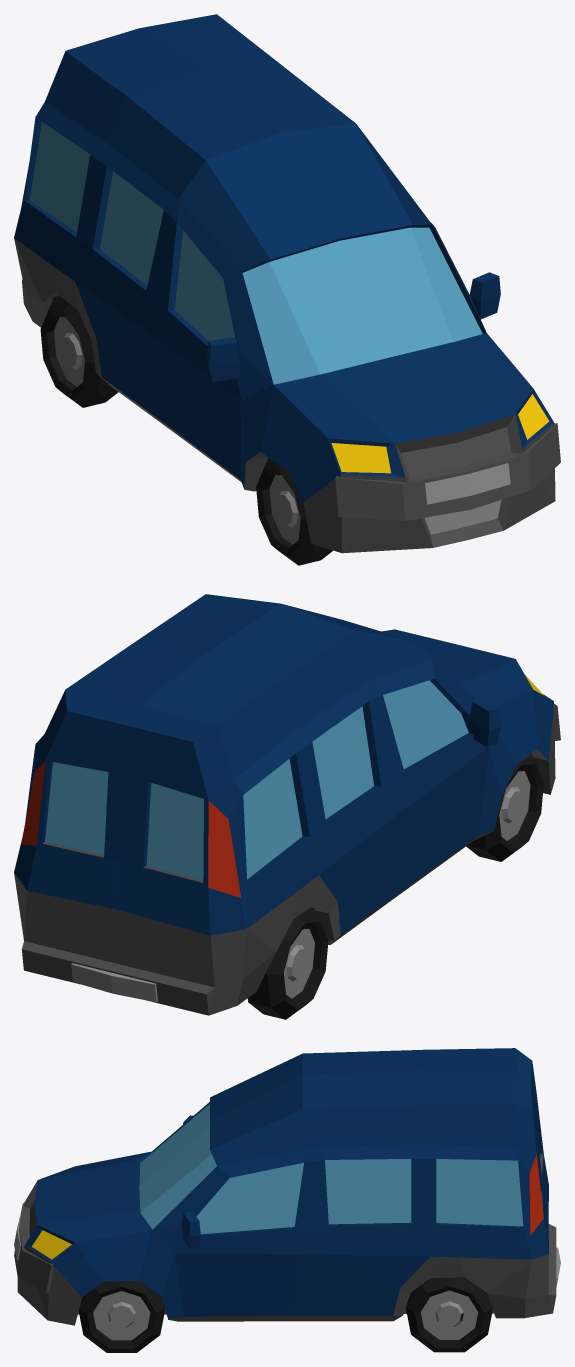
The model's file is car-2.fbx.
The picture shows the model from 3 angles, top to bottom: view 1: azimuth 30°, elevation 25°; view 2: azimuth 150°, elevation 25°; view 3: azimuth 270°, elevation 25°; orthographic projection. The views are drawn at different scales.
Parts seen in each view (by area): view 1: Car 4, Wheel4-3, Wheel4-4; view 2: Car 4, Wheel4-3, Wheel4-4; view 3: Car 4, Wheel4-1, Wheel4-2.
Boxes of the visible parts, <box> form: Car 4: <box>14,14,560,553</box>; Wheel4-3: <box>40,295,118,407</box>; Wheel4-4: <box>256,457,332,565</box>; Car 4: <box>14,594,560,1015</box>; Wheel4-3: <box>247,907,328,1019</box>; Wheel4-4: <box>466,753,543,861</box>; Car 4: <box>14,1048,560,1325</box>; Wheel4-1: <box>405,1277,493,1352</box>; Wheel4-2: <box>78,1281,165,1352</box>.
Bounding box in the file's own units: 432 × 449 × 925.
